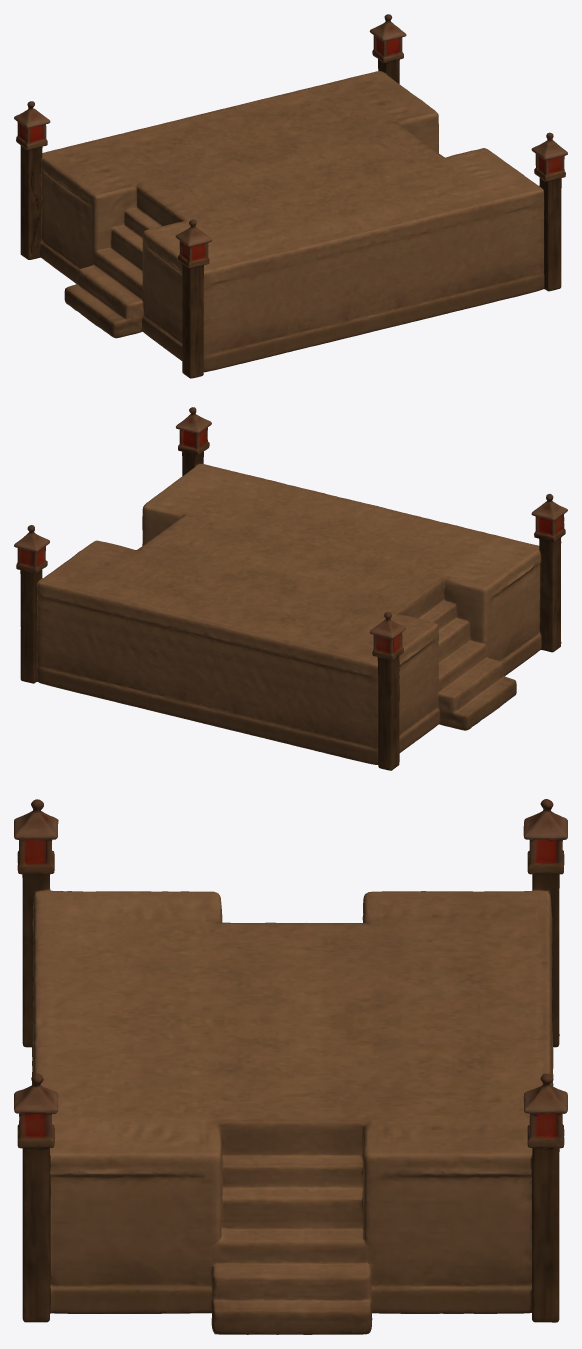
Rendered from tower-drum-proto.glb.
The picture shows the model from 3 angles, top to bottom: view 1: azimuth 30°, elevation 25°; view 2: azimuth 150°, elevation 25°; view 3: azimuth 270°, elevation 25°; orthographic projection. The views are drawn at different scales.
Size of the model in its own units: 1 by 0.3681 by 0.7541.
1 material, 1 textured.
